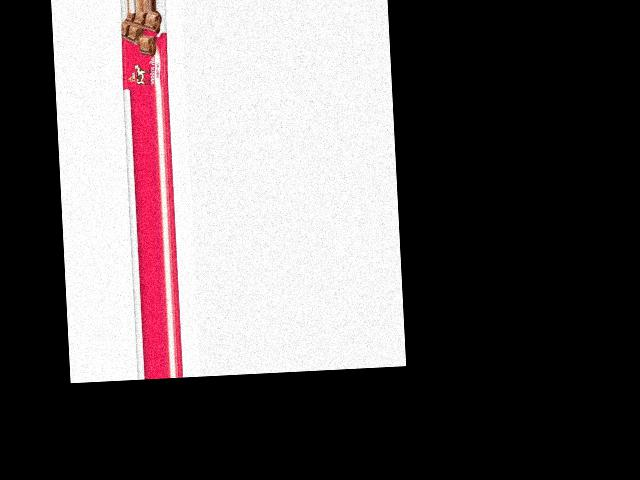chocolate: (119, 11, 169, 91)
